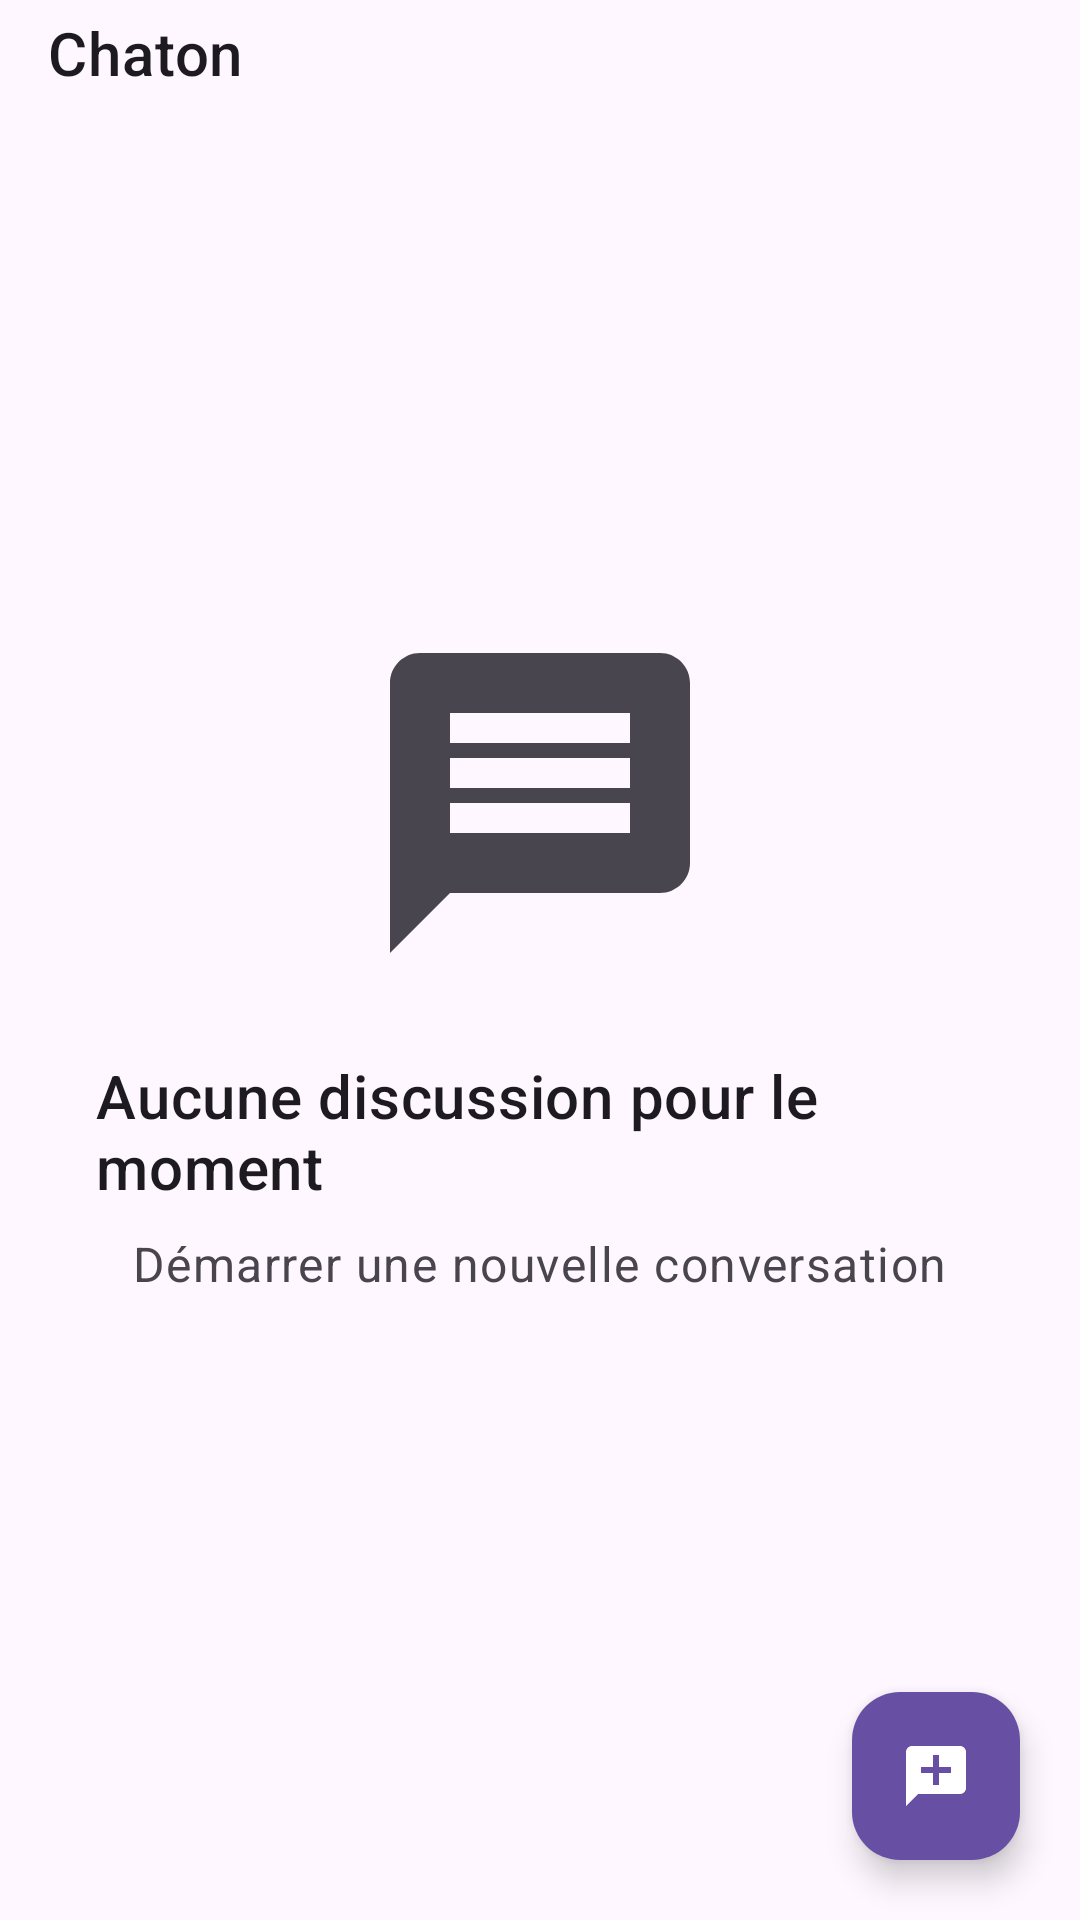

Point at icon controls on the screen. Image size 1080 × 1920, points as (x=x, y=y).
add comment: (x=936, y=1776)
no chats: (x=540, y=803)
